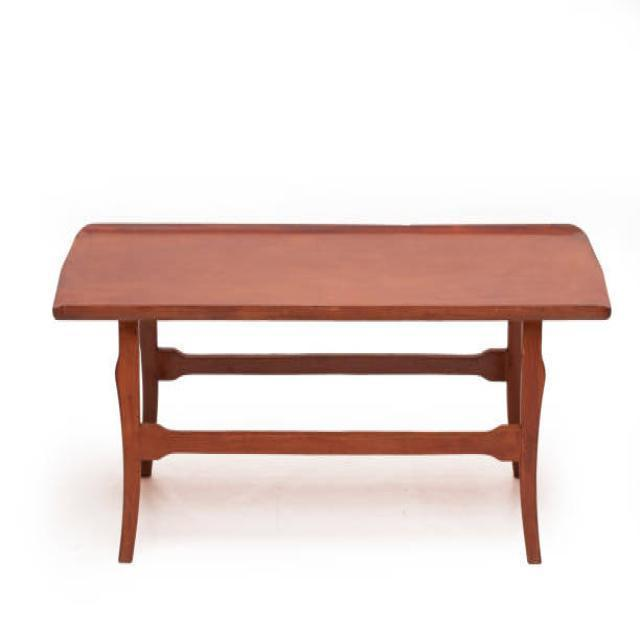table: (51, 219, 612, 566)
